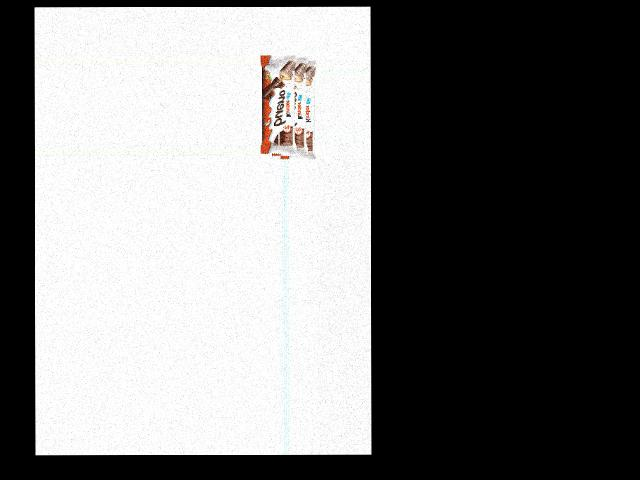chocolate: (259, 57, 316, 158)
